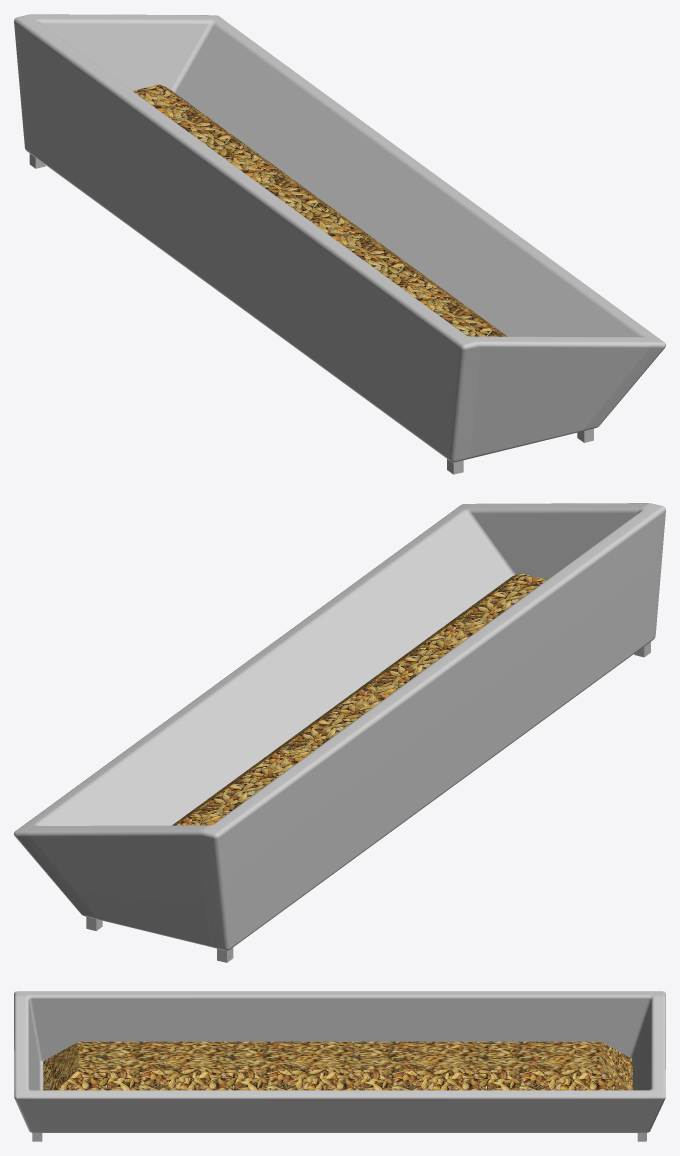
The model's file is Tray_a1.fbx.
3 views of the same model, one above another, from view 1: azimuth 30°, elevation 25°; view 2: azimuth 150°, elevation 25°; view 3: azimuth 270°, elevation 25° (orthographic). The views are drawn at different scales.
Parts seen in each view (by area): view 1: pCube3, pCube4; view 2: pCube3, pCube4; view 3: pCube3, pCube4.
Boxes of the visible parts, box(x1,y1,x2,y2) form: pCube3: box(14, 14, 665, 474); pCube4: box(133, 84, 507, 336); pCube3: box(14, 503, 665, 962); pCube4: box(172, 573, 546, 825); pCube3: box(14, 991, 665, 1141); pCube4: box(43, 1041, 632, 1090).
Bounding box in the file's own units: 1.18 × 0.7586 × 4.48.
